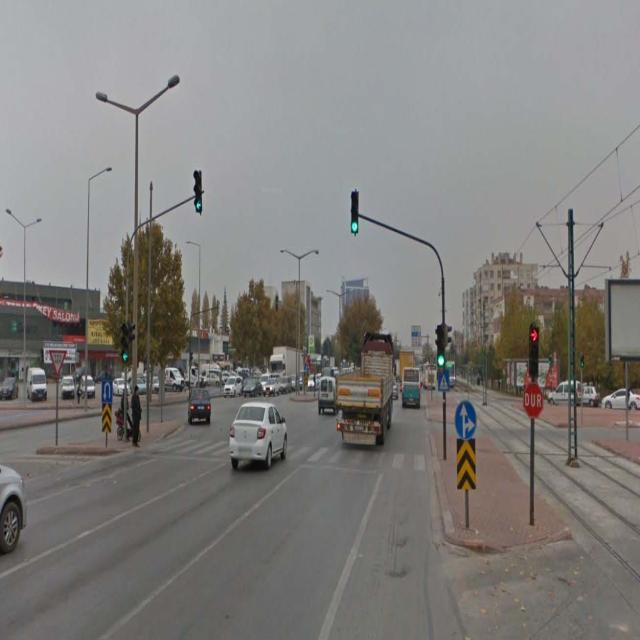dur: (523, 383, 545, 419)
ilerisag: (456, 399, 475, 438)
yesil: (437, 325, 446, 366), (351, 191, 358, 233), (194, 172, 201, 210)
